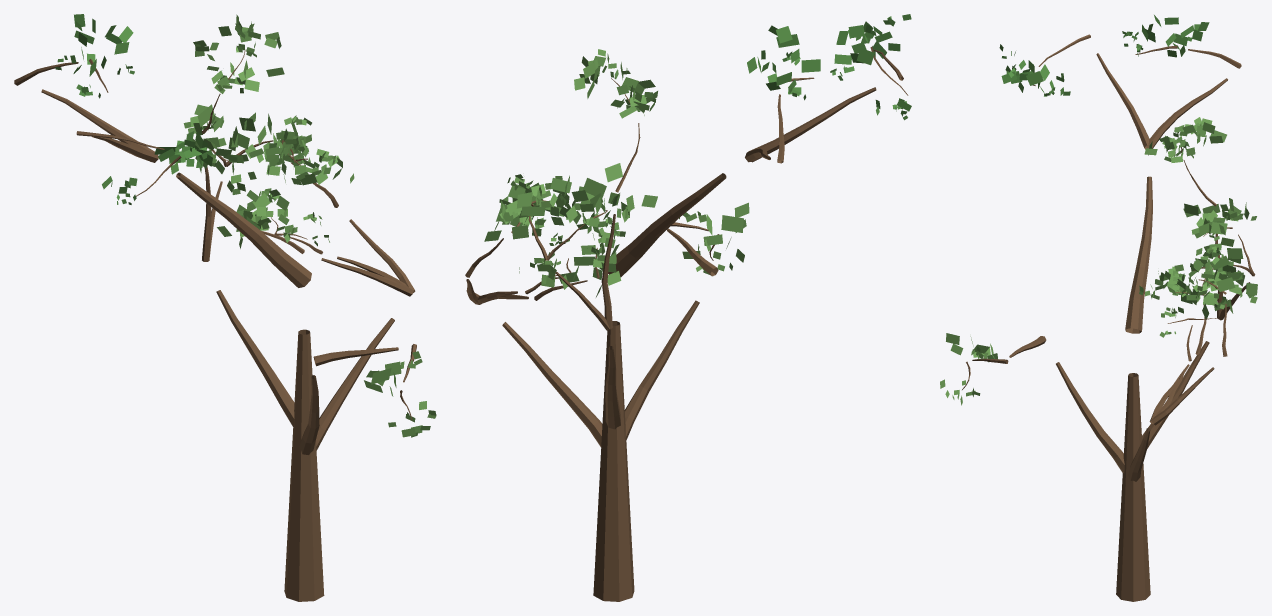
The model's file is oak_tree.glb.
3 renders of one model, left to right at view 1: azimuth 30°, elevation 25°; view 2: azimuth 150°, elevation 25°; view 3: azimuth 270°, elevation 25°, orthographic. The views are drawn at different scales.
Parts seen in each view (by area): view 1: OakTree; view 2: OakTree; view 3: OakTree.
Boxes of the visible parts, x1,y1,x2,y2 form: OakTree: (14,14,436,601); OakTree: (465,14,911,601); OakTree: (940,15,1257,601).
Size of the model in its own units: 5.29 by 8.07 by 4.59.
